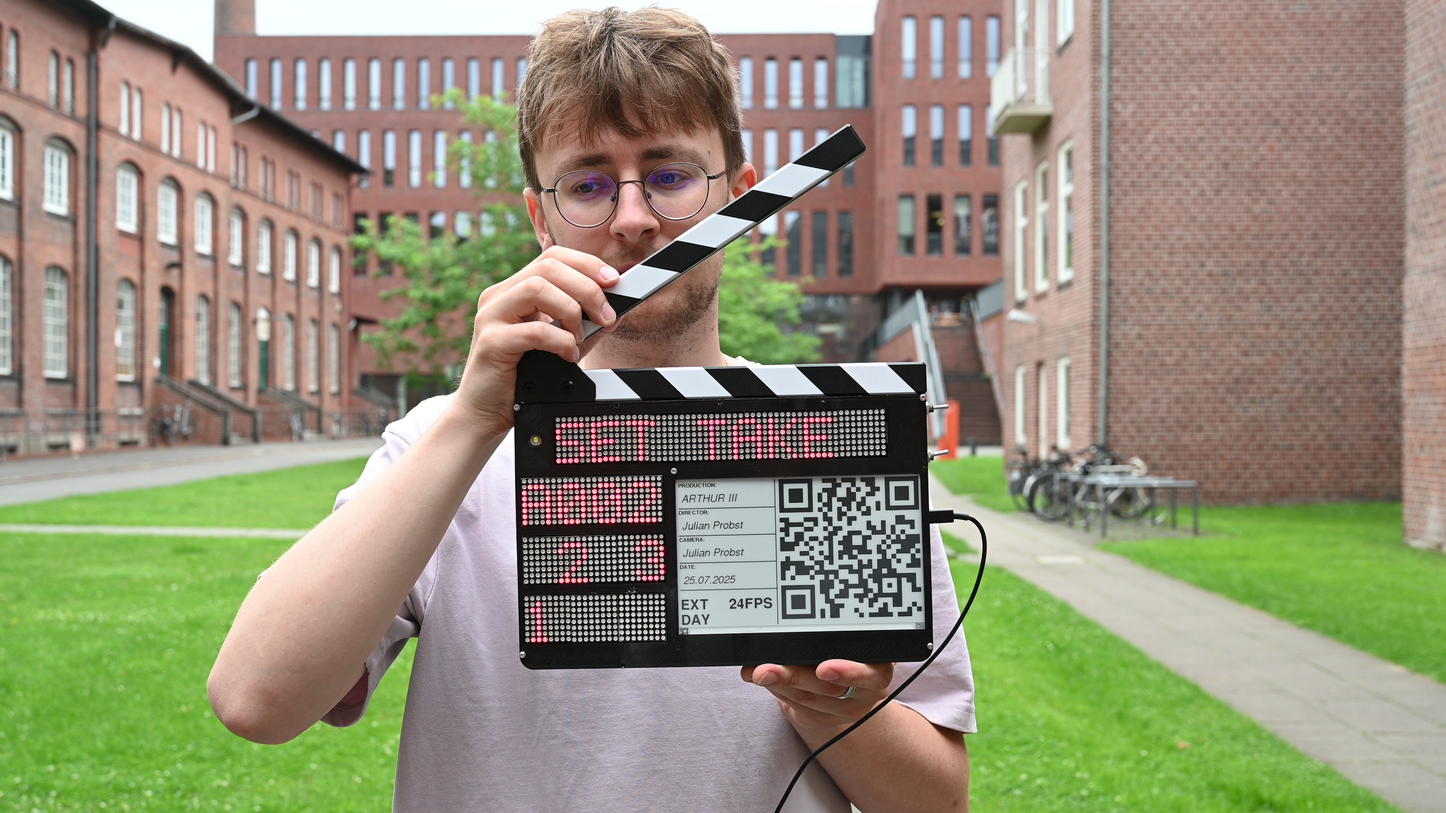ARC-SLATE: (511, 360, 935, 672)
